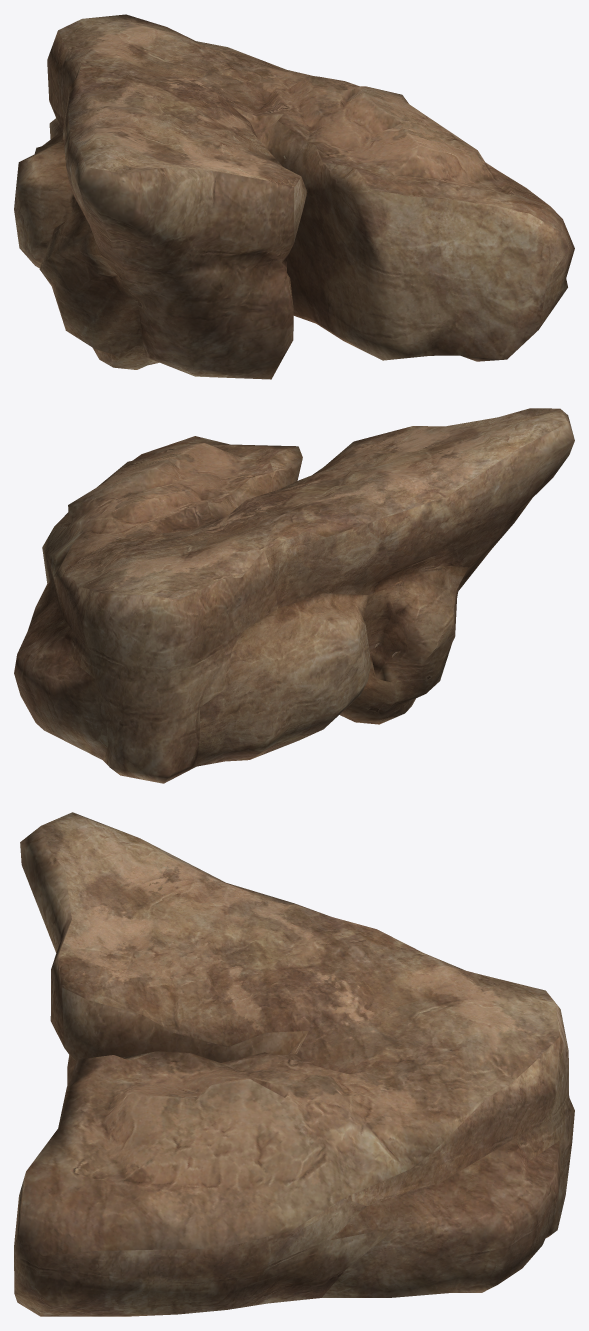
File: rock_medium04.dae
The picture shows the model from 3 angles, top to bottom: view 1: azimuth 30°, elevation 25°; view 2: azimuth 150°, elevation 25°; view 3: azimuth 270°, elevation 25°; orthographic projection. The views are drawn at different scales.
Visible parts, largest first — view 1: Mesh__2_; view 2: Mesh__2_; view 3: Mesh__2_.
Part boxes in pixels (bbox=[...]): Mesh__2_: bbox=[14, 14, 574, 379]; Mesh__2_: bbox=[14, 408, 574, 783]; Mesh__2_: bbox=[14, 812, 574, 1316].
Size of the model in its own units: 1.98 by 1.12 by 1.86.
